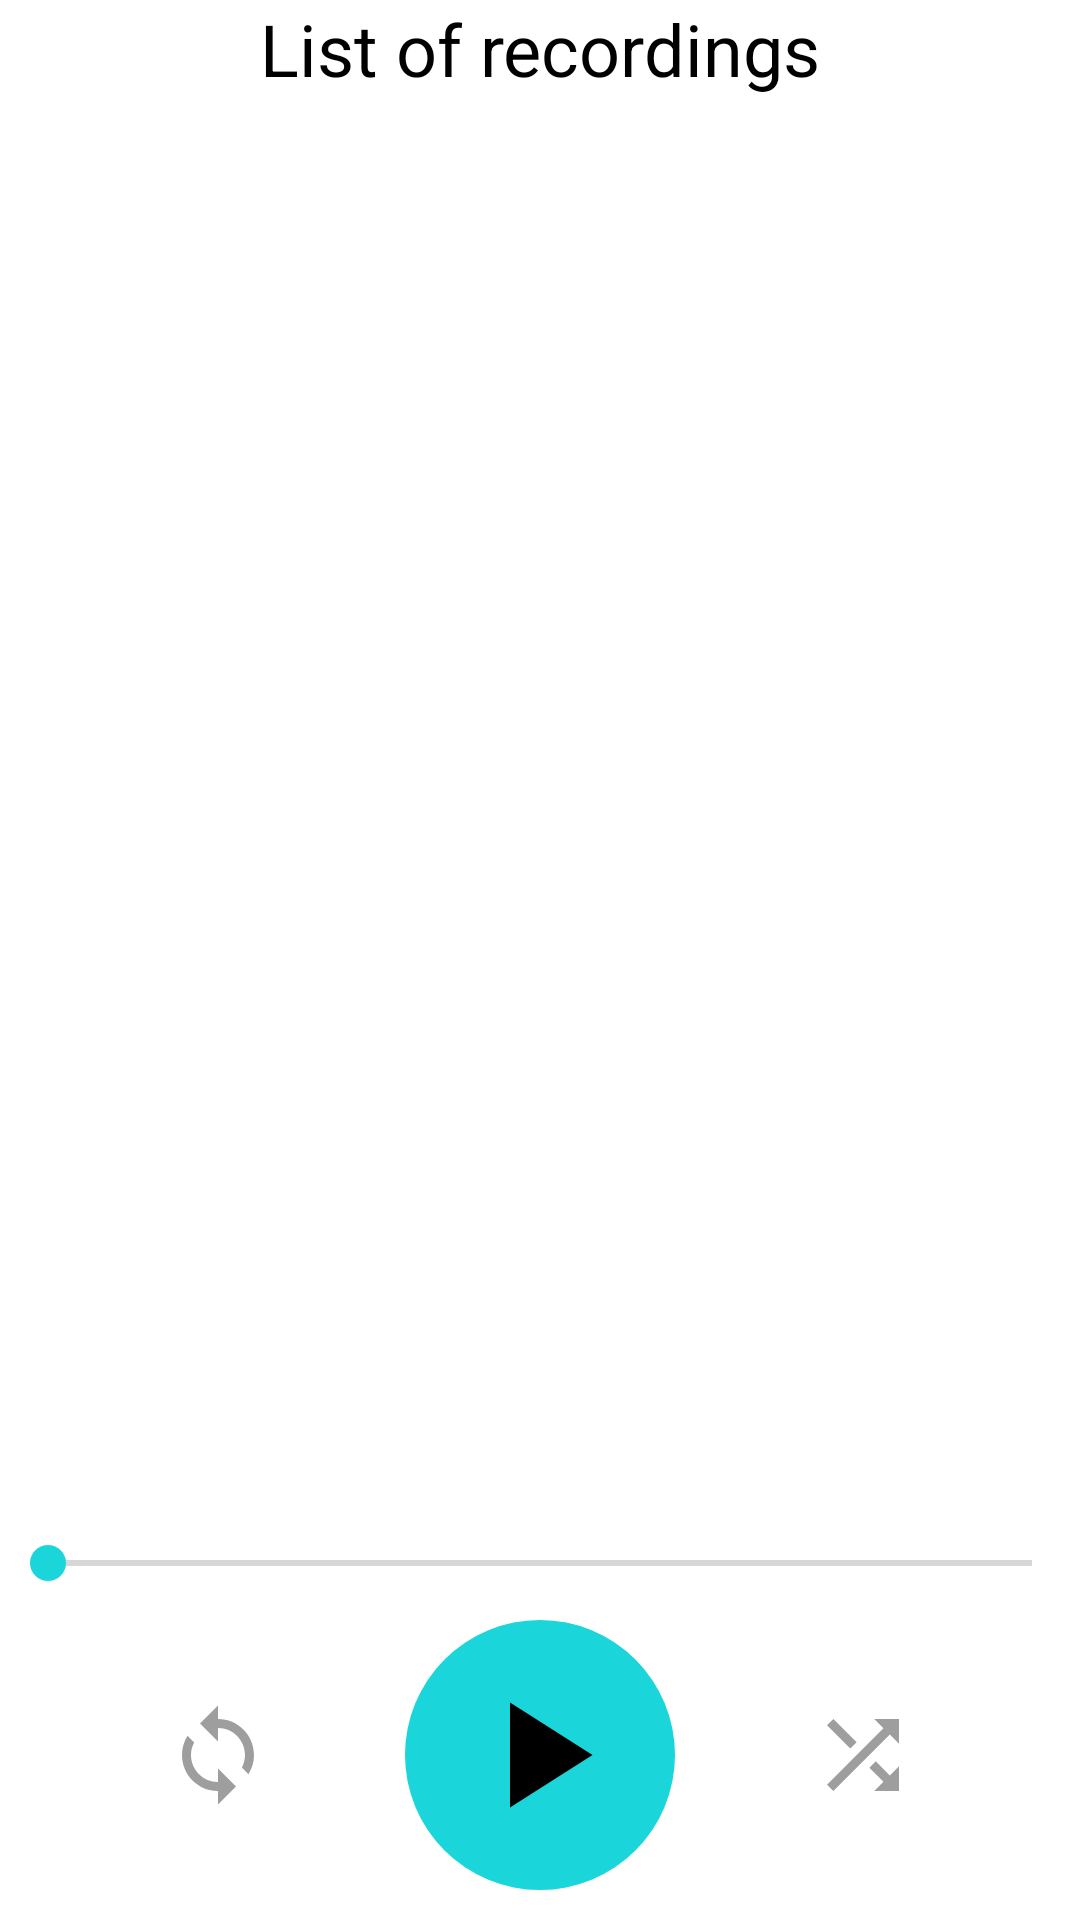

Where to tap for icons on this 1080px×1920px app screen, as (x=x, y=y):
play pause: (x=540, y=1755)
repeat: (x=218, y=1755)
shuffle: (x=863, y=1755)
